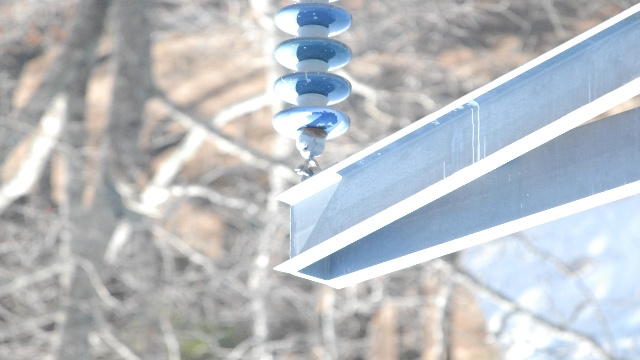insulator_unspecified: (273, 5, 353, 139)
pollution_flashover_local: (306, 105, 340, 132)
